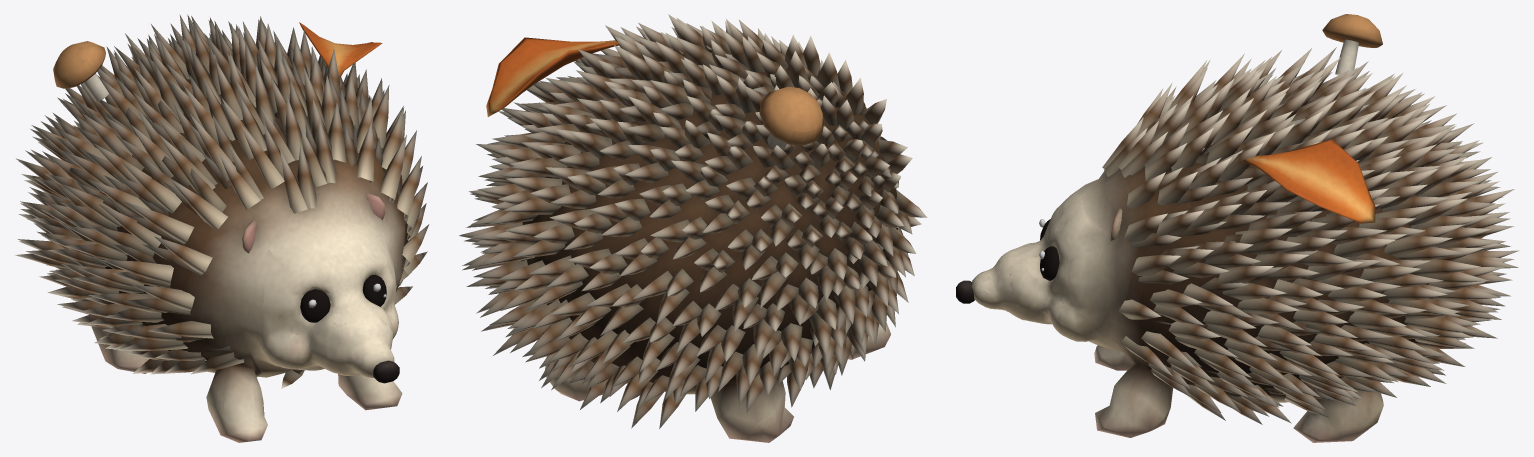
File: hedgehog.fbx
The picture shows the model from 3 angles, left to right: view 1: azimuth 30°, elevation 25°; view 2: azimuth 150°, elevation 25°; view 3: azimuth 270°, elevation 25°; orthographic projection. The views are drawn at different scales.
Visible parts, largest first — view 1: Hedgehog_Body, Hedgehog_Eyes; view 2: Hedgehog_Body; view 3: Hedgehog_Body, Hedgehog_Eyes.
Part boxes in pixels (x1=…): Hedgehog_Body: x1=15, y1=14, x2=429, y2=442; Hedgehog_Eyes: x1=300, y1=274, x2=386, y2=322; Hedgehog_Body: x1=459, y1=14, x2=927, y2=442; Hedgehog_Body: x1=956, y1=14, x2=1519, y2=442; Hedgehog_Eyes: x1=1040, y1=219, x2=1059, y2=280.
Bounding box in the file's own units: 2.67 × 2.32 × 3.63.
Materials: 2 (1 with a texture image).
